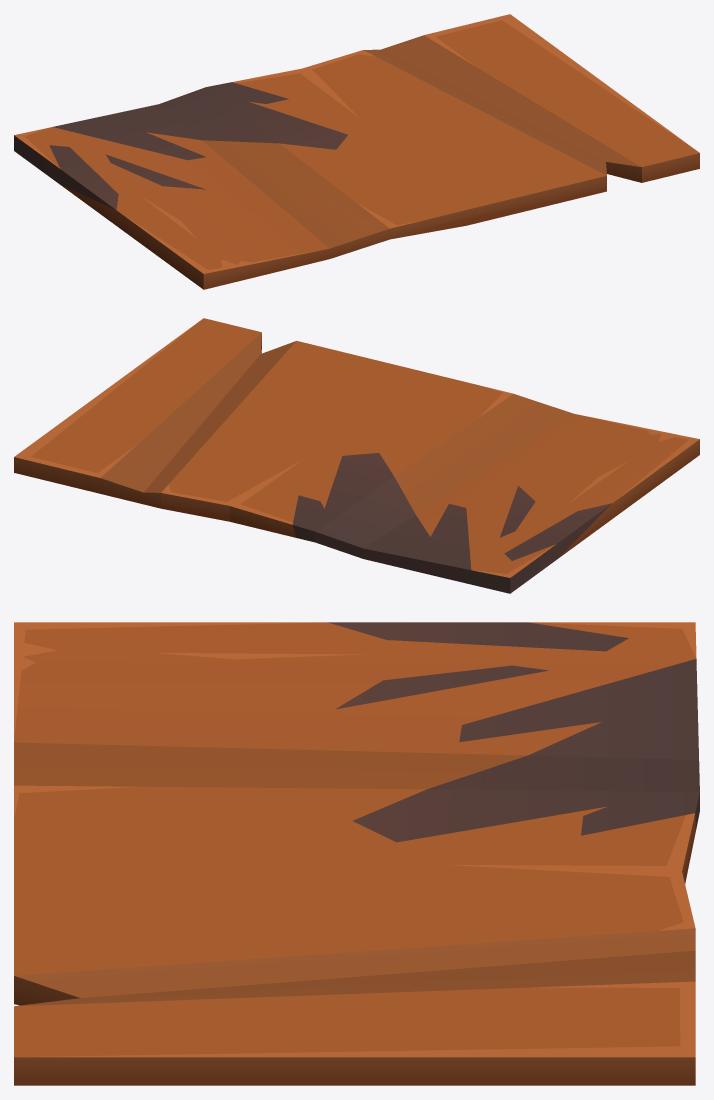
File: SM_ToleTremplin.fbx
The picture shows the model from 3 angles, top to bottom: view 1: azimuth 30°, elevation 25°; view 2: azimuth 150°, elevation 25°; view 3: azimuth 270°, elevation 25°; orthographic projection. The views are drawn at different scales.
Parts seen in each view (by area): view 1: Cube.006; view 2: Cube.006; view 3: Cube.006.
Part boxes in pixels (x1,y1,x2,y2): Cube.006: [14, 14, 699, 289]; Cube.006: [14, 318, 699, 593]; Cube.006: [14, 622, 699, 1085].
Bounding box in the file's own units: 13.75 × 0.4182 × 9.17.
